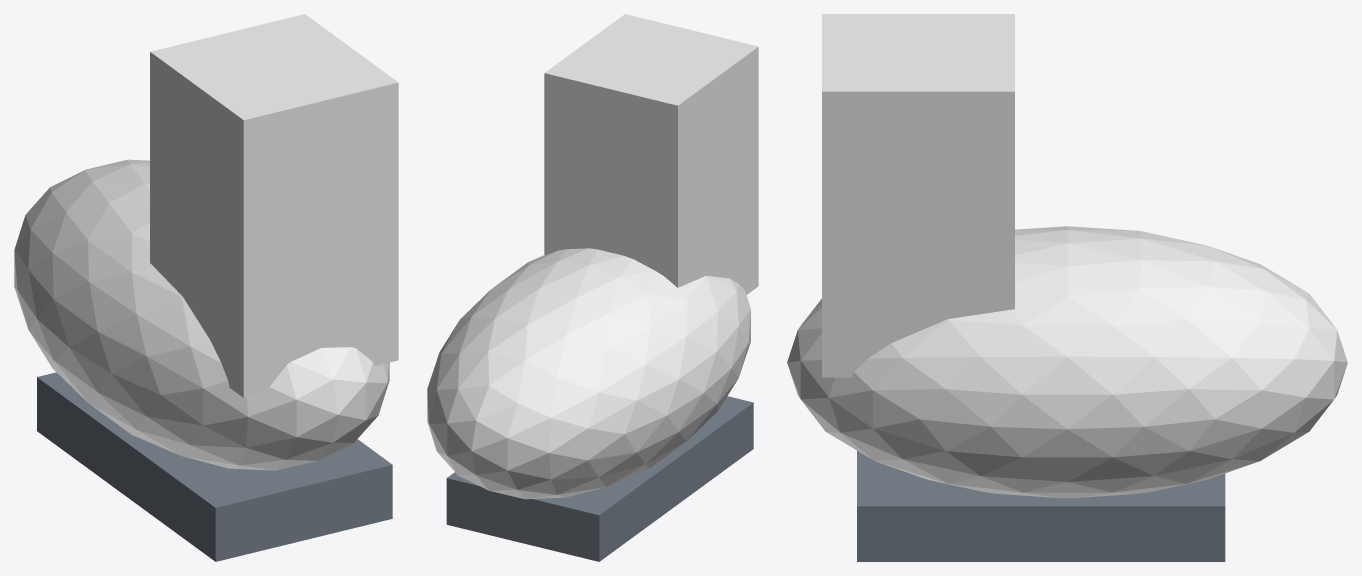
File: botas_ag_0.glb
3 renders of one model, left to right at view 1: azimuth 30°, elevation 25°; view 2: azimuth 150°, elevation 25°; view 3: azimuth 270°, elevation 25°, orthographic. The views are drawn at different scales.
Visible parts, largest first — view 1: caña, puntera, suela; view 2: puntera, caña, suela; view 3: puntera, caña, suela.
Boxes of the visible parts, x1,y1,x2,y2 form: caña: (150, 14, 398, 397); puntera: (14, 159, 389, 470); suela: (37, 372, 392, 561); puntera: (427, 248, 750, 499); caña: (544, 14, 758, 294); suela: (446, 396, 753, 561); puntera: (787, 226, 1347, 498); caña: (822, 14, 1014, 377); suela: (857, 451, 1225, 561).
Size of the model in its own units: 0.5063 by 0.8227 by 0.9.
